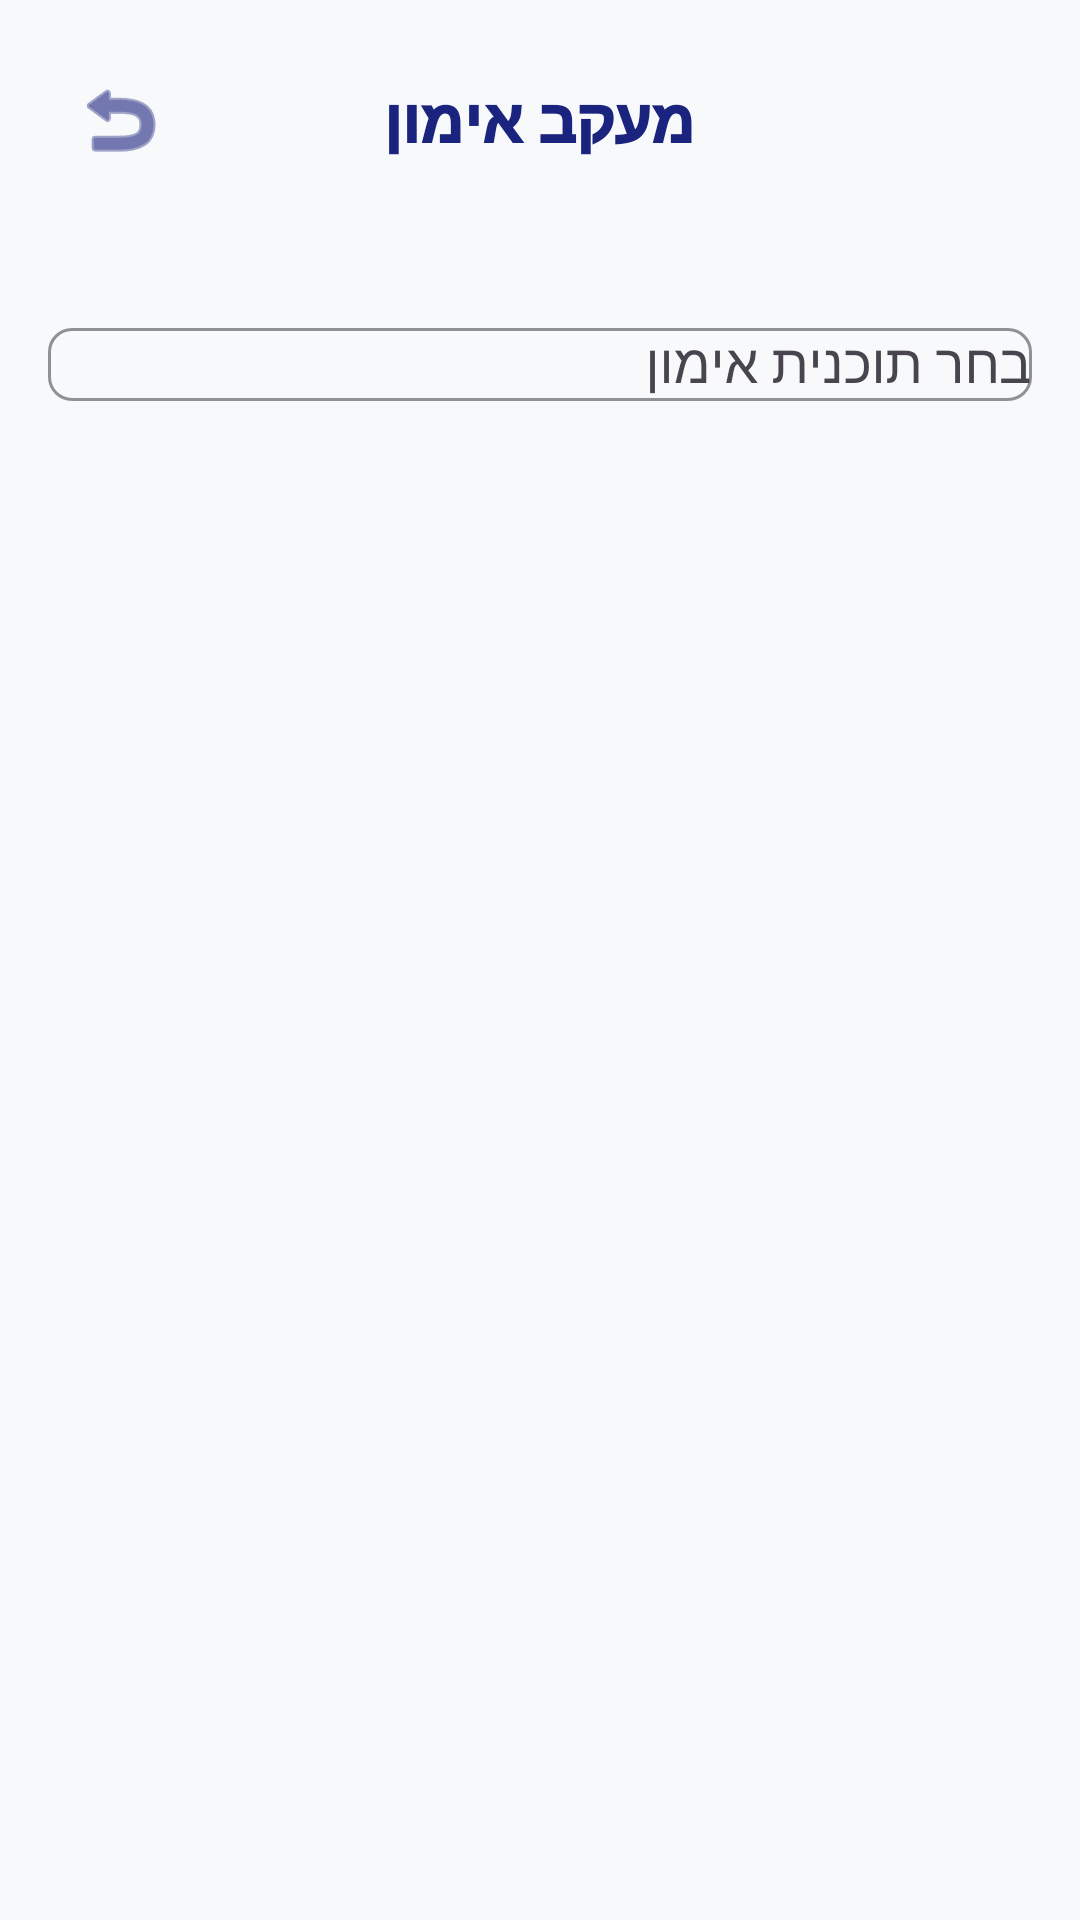

Locate icon controls on the screen. Image size 1080 × 1920, boxes as (x1, y1, x2, y2).
חזרה: (87, 89, 156, 152)
